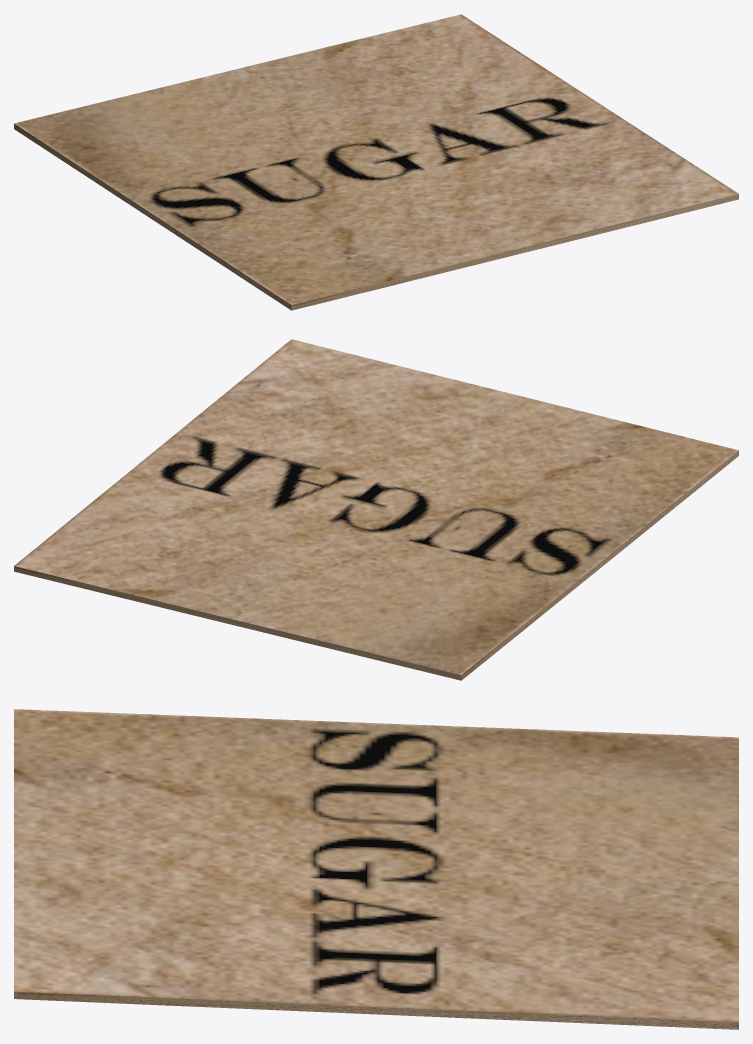
Rendered from suger note.FBX.
The picture shows the model from 3 angles, top to bottom: view 1: azimuth 30°, elevation 25°; view 2: azimuth 150°, elevation 25°; view 3: azimuth 270°, elevation 25°; orthographic projection. The views are drawn at different scales.
Visible parts, largest first — view 1: Object001, Box001; view 2: Object001, Box001; view 3: Object001, Box001.
Boxes of the visible parts, x1,y1,x2,y2 form: Object001: [14, 14, 738, 304]; Box001: [14, 123, 738, 310]; Object001: [14, 339, 738, 674]; Box001: [14, 450, 738, 680]; Object001: [14, 709, 738, 1022]; Box001: [14, 991, 738, 1029].
Bounding box in the file's own units: 93.22 × 5.83 × 100.
2 materials, 2 textured.
